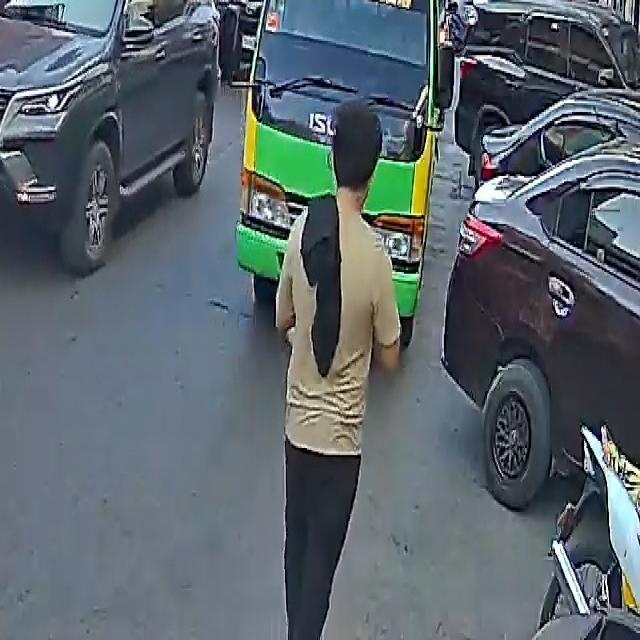car: (443, 78, 640, 526), (0, 0, 225, 274), (453, 0, 640, 169), (216, 0, 339, 84)
